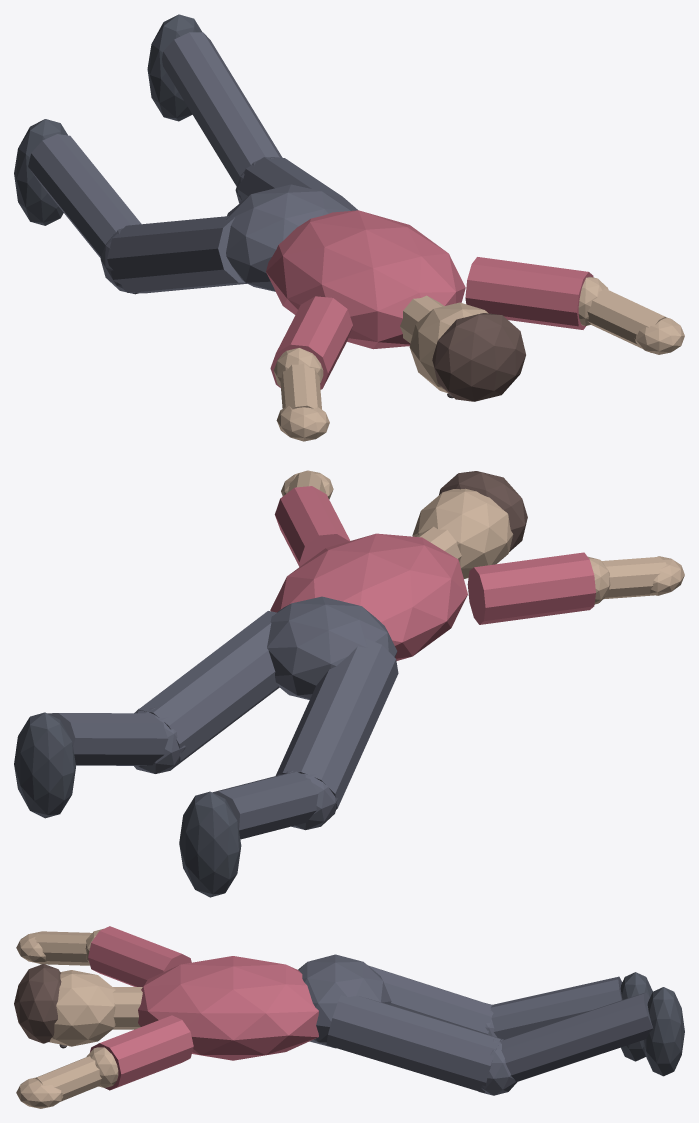
3 views of the same model, one above another, from view 1: azimuth 30°, elevation 25°; view 2: azimuth 150°, elevation 25°; view 3: azimuth 270°, elevation 25° (orthographic). The views are drawn at different scales.
Parts seen in each view (by area): view 1: world; view 2: world; view 3: world.
Part boxes in pixels (x1=…): world: x1=14, y1=14, x2=684, y2=441; world: x1=14, y1=470, x2=684, y2=897; world: x1=14, y1=926, x2=684, y2=1108.
Size of the model in its own units: 1.17 by 0.4556 by 2.04.
